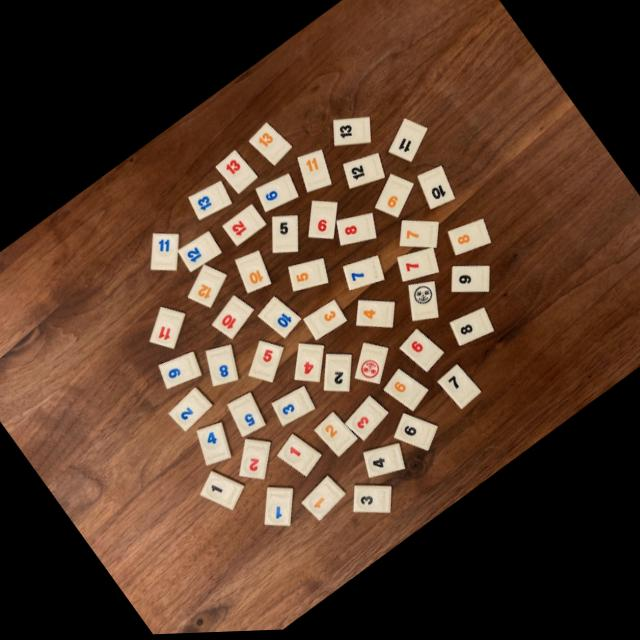black_1: (200, 472, 244, 511)
black_10: (418, 168, 454, 212)
black_11: (388, 121, 427, 165)
black_12: (343, 155, 384, 191)
black_13: (333, 119, 371, 148)
black_2: (323, 355, 352, 393)
black_3: (353, 487, 392, 515)
black_4: (363, 446, 405, 480)
black_5: (271, 217, 298, 254)
black_6: (394, 416, 437, 454)
black_7: (437, 367, 481, 412)
black_8: (449, 311, 493, 349)
black_9: (451, 268, 490, 295)
blue_1: (264, 488, 292, 527)
blue_10: (258, 298, 301, 339)
blue_11: (150, 234, 178, 270)
blue_12: (178, 233, 222, 273)
blue_13: (188, 182, 232, 221)
blue_2: (168, 388, 213, 432)
blue_3: (272, 388, 315, 428)
blue_4: (197, 423, 231, 466)
blue_5: (227, 393, 265, 438)
blue_6: (255, 175, 299, 214)
blue_7: (342, 258, 384, 292)
blue_8: (205, 346, 237, 387)
blue_9: (158, 352, 201, 389)
joker: (356, 344, 388, 386), (408, 284, 439, 323)
orange_1: (301, 477, 345, 522)
orange_10: (234, 252, 271, 294)
orange_11: (297, 152, 331, 194)
orange_12: (187, 265, 227, 308)
orange_13: (248, 124, 292, 167)
orange_2: (315, 414, 357, 458)
orange_3: (303, 301, 347, 342)
orange_4: (356, 302, 395, 331)
orange_5: (288, 259, 328, 293)
orange_6: (383, 371, 428, 414)
orange_7: (399, 222, 439, 251)
orange_8: (447, 222, 491, 259)
orange_9: (375, 176, 414, 220)
red_1: (277, 435, 322, 478)
red_10: (211, 296, 253, 340)
red_11: (149, 308, 185, 348)
red_12: (222, 206, 266, 247)
red_13: (215, 152, 258, 195)
red_2: (239, 439, 271, 481)
red_3: (345, 398, 388, 443)
red_4: (294, 344, 324, 383)
red_5: (249, 342, 283, 384)
red_6: (399, 332, 444, 374)
red_7: (397, 250, 439, 284)
red_8: (336, 215, 377, 248)
red_9: (308, 202, 337, 240)
